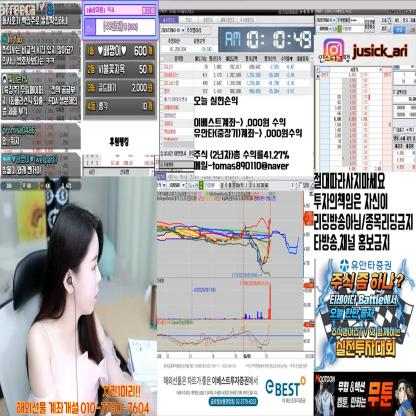streamer: (27, 204, 157, 416)
